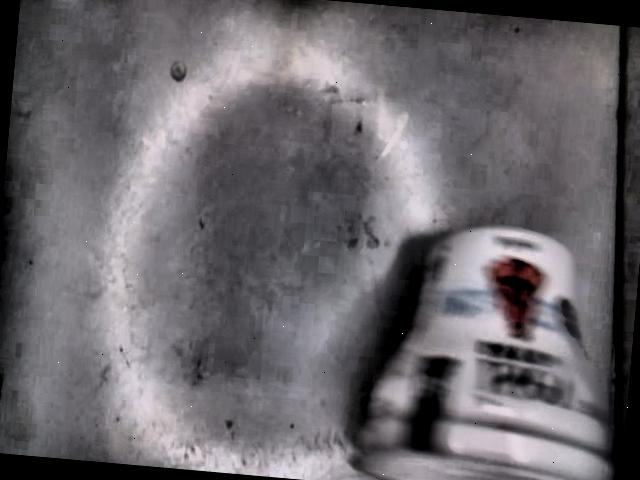Plastic: (352, 226, 621, 480)
